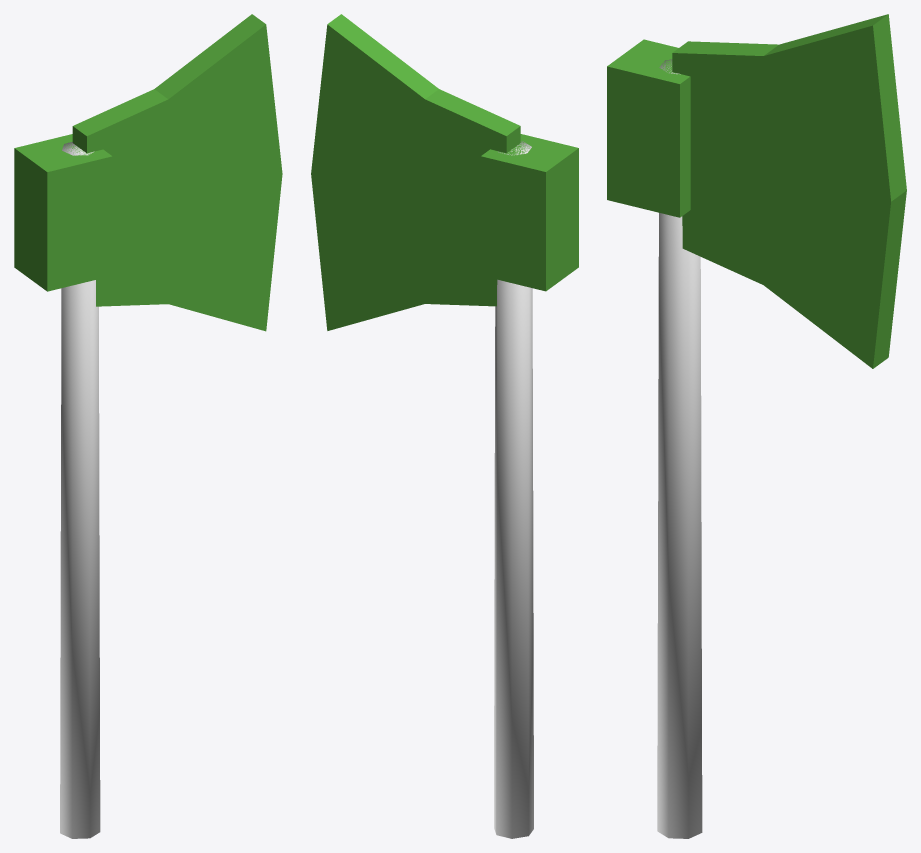
File: the_axe.glb
The picture shows the model from 3 angles, left to right: view 1: azimuth 30°, elevation 25°; view 2: azimuth 150°, elevation 25°; view 3: azimuth 330°, elevation 25°; orthographic projection. The views are drawn at different scales.
Parts seen in each view (by area): view 1: the_axe_v0; view 2: the_axe_v0; view 3: the_axe_v0.
Boxes of the visible parts, box(x1,y1,x2,y2) form: the_axe_v0: box(14, 14, 282, 838); the_axe_v0: box(311, 14, 578, 838); the_axe_v0: box(607, 14, 906, 838).
Bounding box in the file's own units: 0.3 × 0.9 × 0.07.
